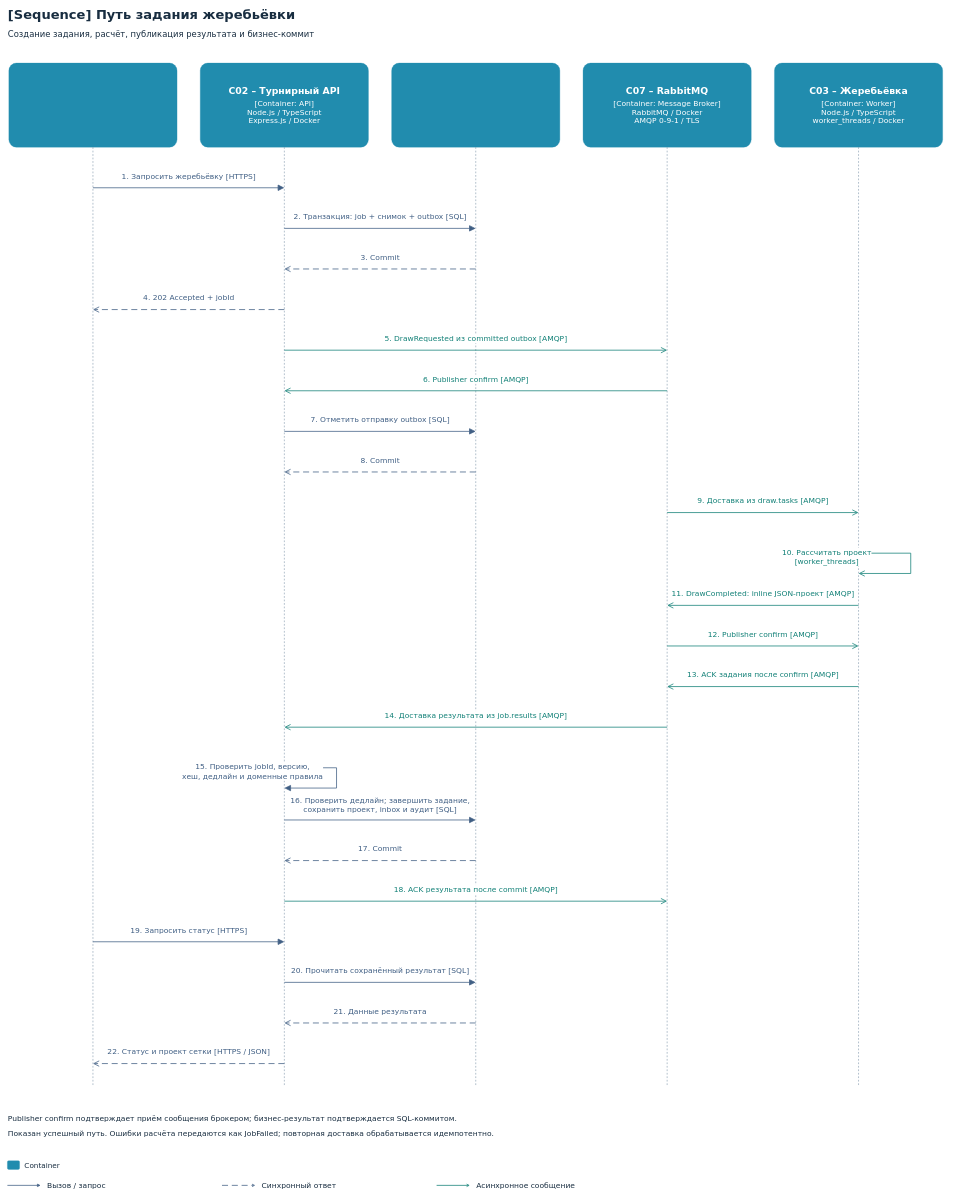
Image size: 962x1197. Some labels were removed from this diagram. Here are the shapes that lost their labels. From the top down, the box of each, then its label:
(9, 63, 177, 147): C01 – Веб-клиент [Container: SPA] TypeScript / React / Next.js
(391, 63, 560, 147): C05 – PostgreSQL [Container: Database] PostgreSQL
